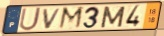3: (81, 5, 102, 30)
4: (124, 4, 142, 29)
M: (57, 5, 86, 30), (99, 5, 127, 29)
U: (18, 7, 43, 32)
V: (42, 7, 63, 30)
